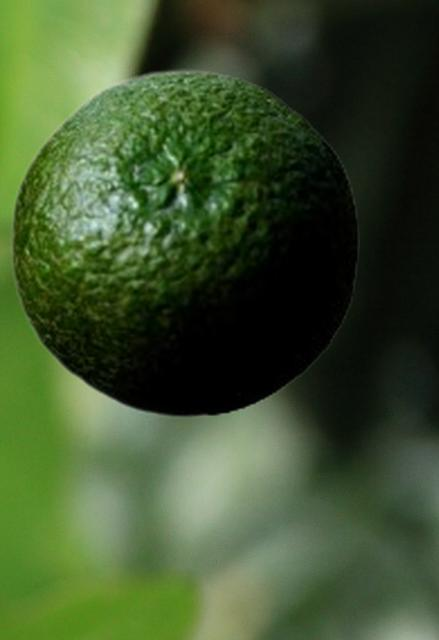calamansi: (9, 68, 358, 418)
